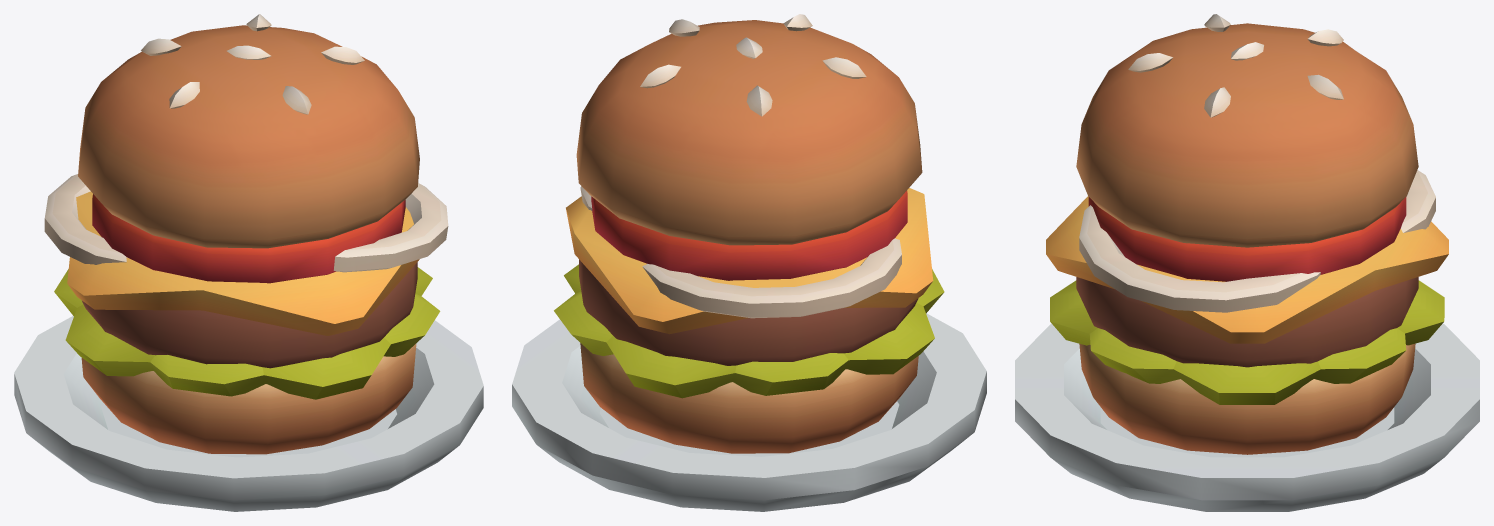
The model's file is food-burger-001.glb.
3 renders of one model, left to right at view 1: azimuth 30°, elevation 25°; view 2: azimuth 150°, elevation 25°; view 3: azimuth 270°, elevation 25°, orthographic.
Visible parts, largest first — view 1: food_burger; view 2: food_burger; view 3: food_burger.
Part boxes in pixels (<box>): food_burger: <box>14,14,483,511</box>; food_burger: <box>512,14,986,511</box>; food_burger: <box>1015,14,1479,511</box>.
Bounding box in the file's own units: 0.95 × 0.8572 × 0.95.
Materials: 1 (1 with a texture image).
